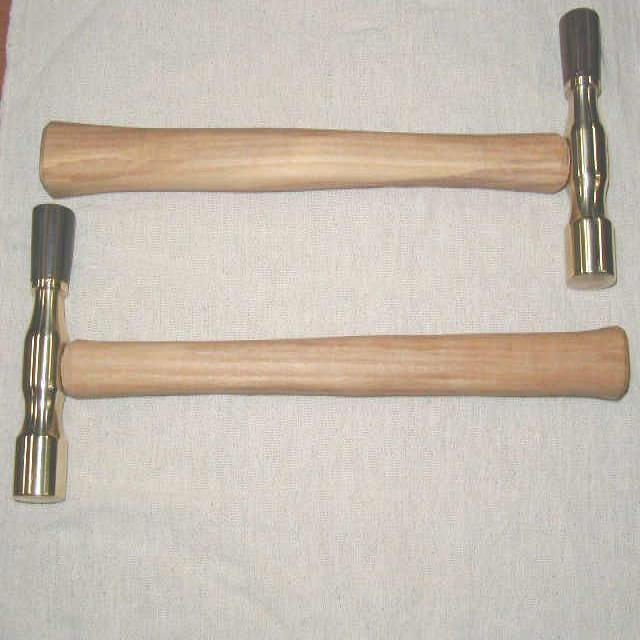hammer: (0, 192, 632, 510), (10, 0, 640, 301)
